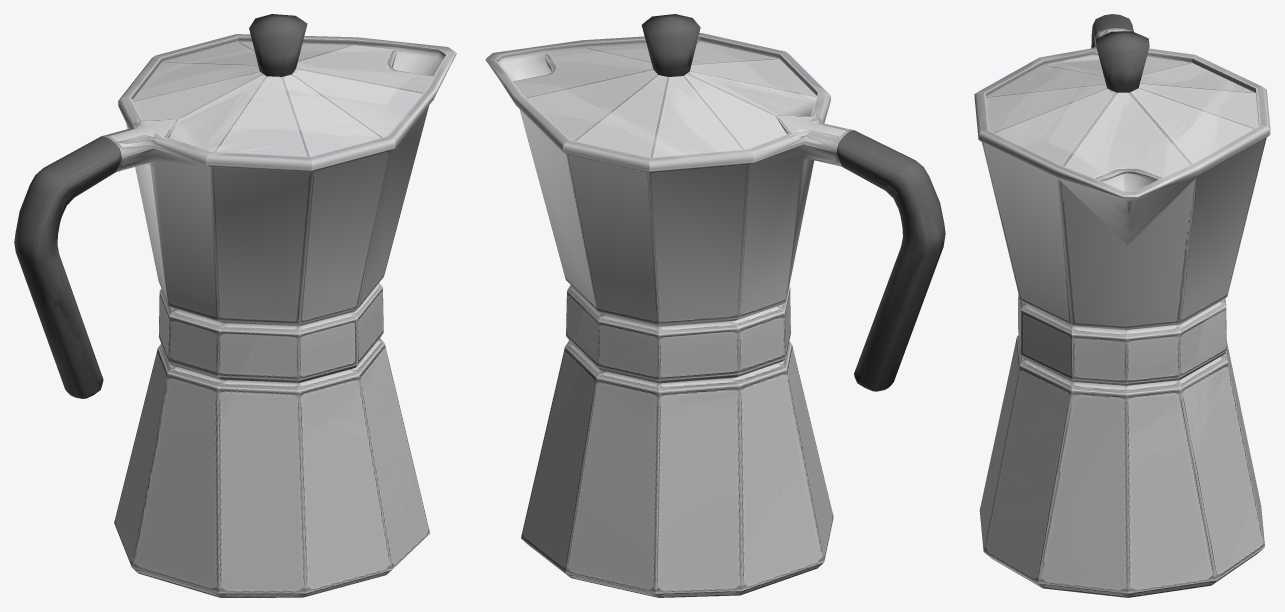
Rendered from coffeepot.glb.
The picture shows the model from 3 angles, left to right: view 1: azimuth 30°, elevation 25°; view 2: azimuth 150°, elevation 25°; view 3: azimuth 270°, elevation 25°; orthographic projection. The views are drawn at different scales.
Parts seen in each view (by area): view 1: coffeepot.004; view 2: coffeepot.004; view 3: coffeepot.004.
Part boxes in pixels (x1=…): coffeepot.004: x1=14, y1=14, x2=456, y2=597; coffeepot.004: x1=485, y1=14, x2=945, y2=597; coffeepot.004: x1=974, y1=14, x2=1270, y2=597.
Bounding box in the file's own units: 0.3002 × 0.3345 × 0.178.
Materials: 2 (2 with a texture image).
